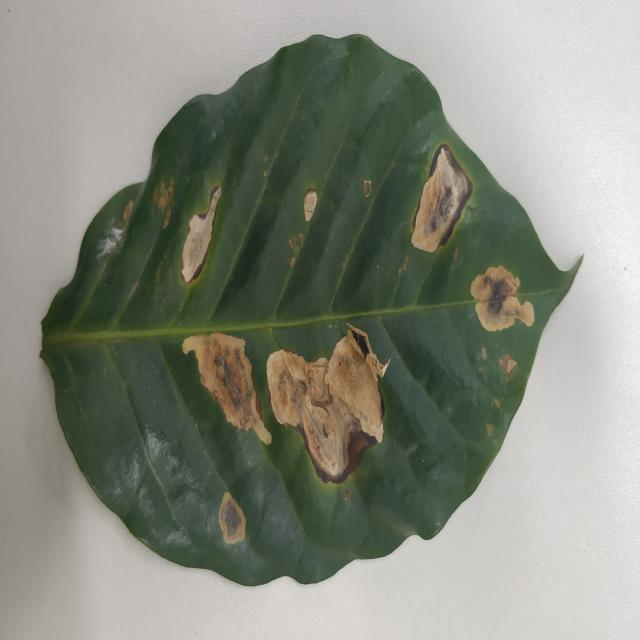Plaga-Minador: (39, 34, 585, 590)
